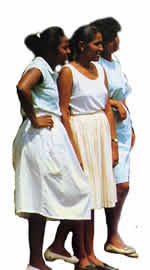person: (18, 21, 74, 144)
